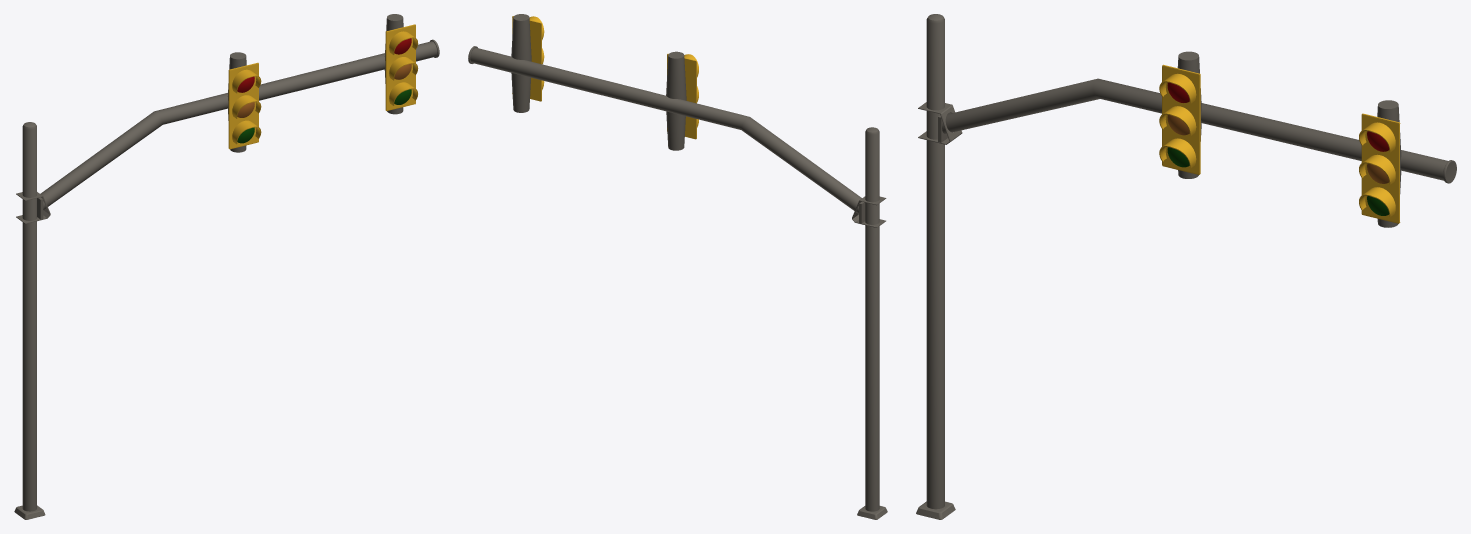
File: traffic_lights2.fbx
3 renders of one model, left to right at view 1: azimuth 30°, elevation 25°; view 2: azimuth 150°, elevation 25°; view 3: azimuth 330°, elevation 25°, orthographic. The views are drawn at different scales.
Parts seen in each view (by area): view 1: Lights_bended; view 2: Lights_bended; view 3: Lights_bended.
Boxes of the visible parts, x1,y1,x2,y2 form: Lights_bended: (14,14,439,519); Lights_bended: (468,14,887,519); Lights_bended: (916,14,1456,519).
Size of the model in its own units: 569 by 538 by 59.49.
